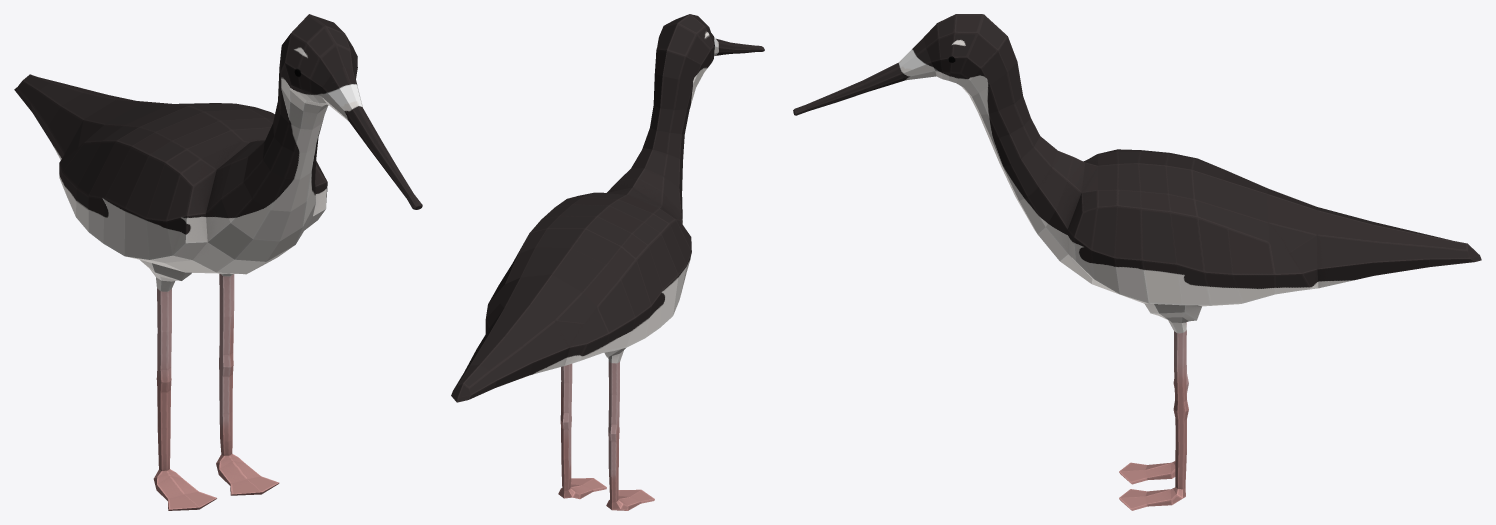
The model's file is 7f3408d5-9ea3-4380-ab56-aaa6b7e99fc7.glb.
The picture shows the model from 3 angles, left to right: view 1: azimuth 30°, elevation 25°; view 2: azimuth 150°, elevation 25°; view 3: azimuth 270°, elevation 25°; orthographic projection. The views are drawn at different scales.
Visible parts, largest first — view 1: BlackNeckedStilt_mesh; view 2: BlackNeckedStilt_mesh; view 3: BlackNeckedStilt_mesh.
Part boxes in pixels (left/top/right/bottom): BlackNeckedStilt_mesh: left=14, top=14, right=422, bottom=510; BlackNeckedStilt_mesh: left=451, top=14, right=764, bottom=510; BlackNeckedStilt_mesh: left=793, top=14, right=1481, bottom=510.
Size of the model in its own units: 2.71 by 7.58 by 9.99.
Materials: 1 (1 with a texture image).
